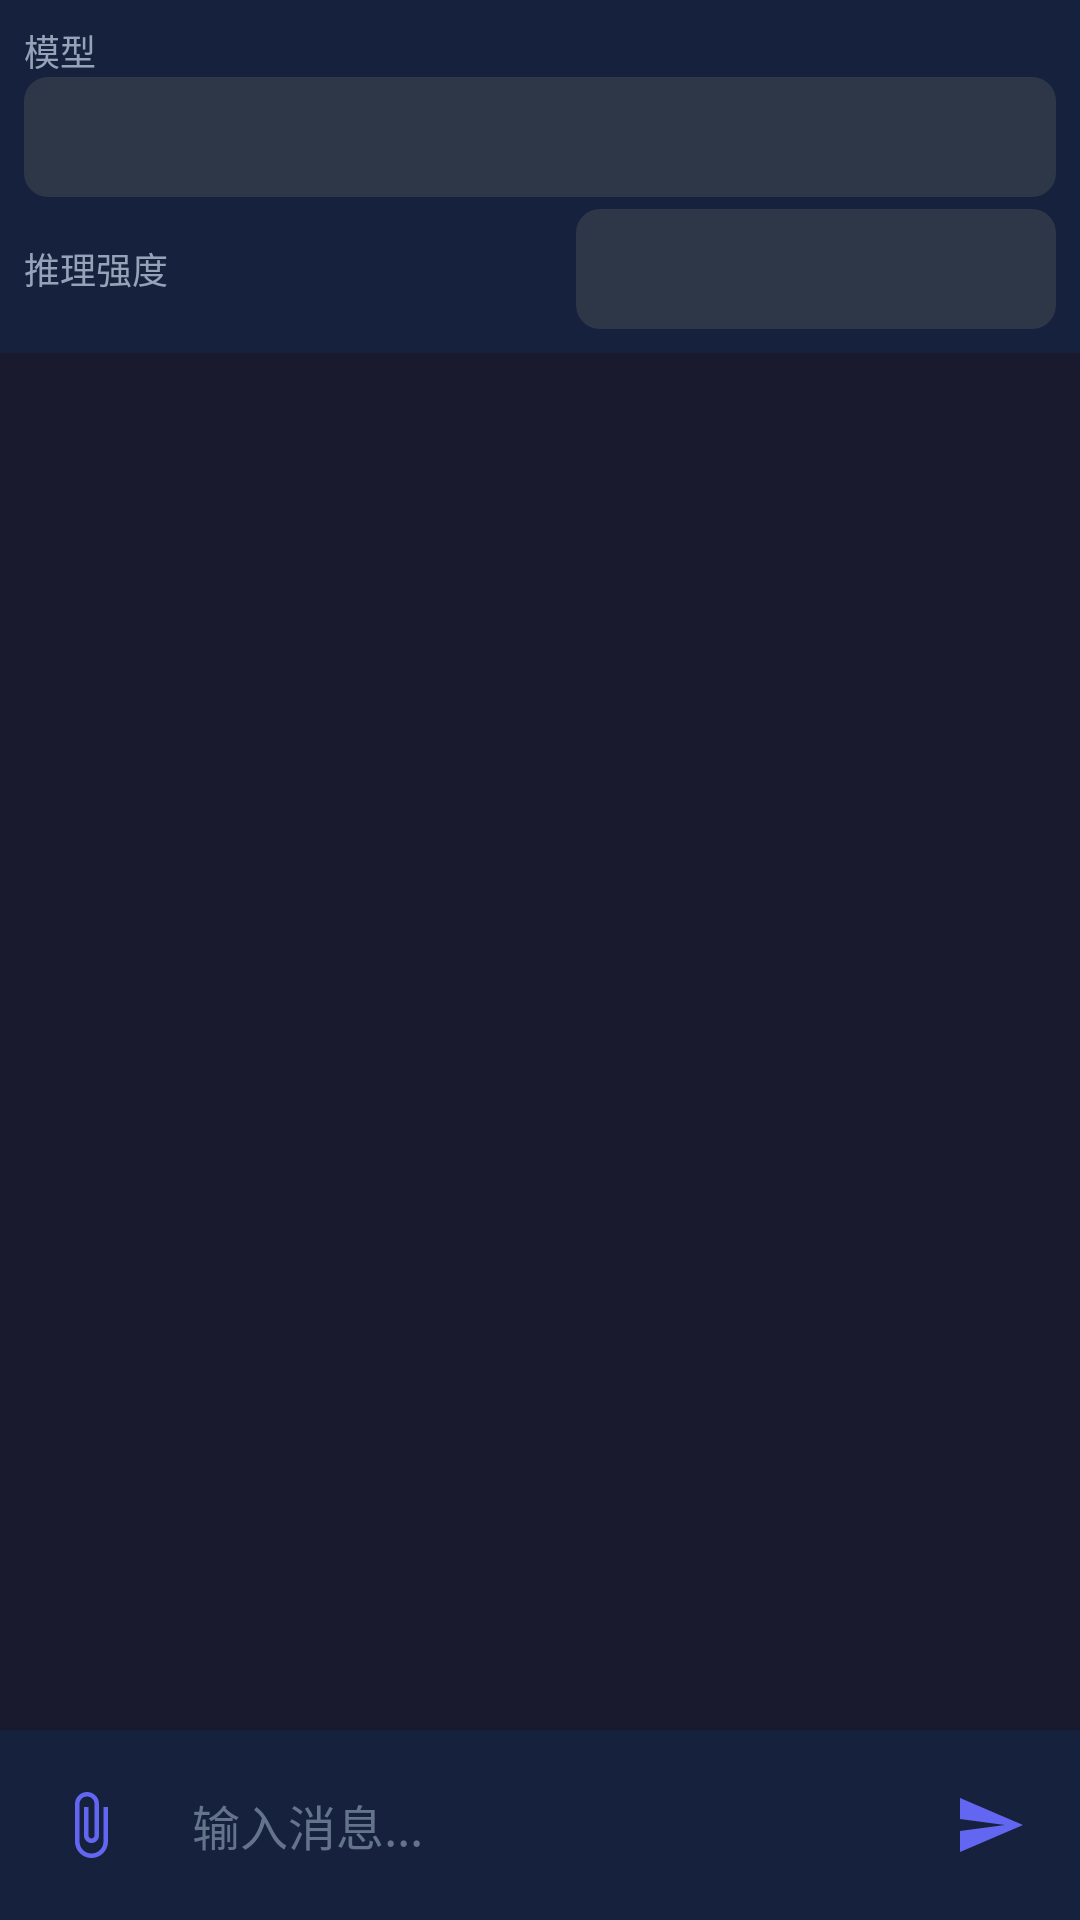

Icon bounding boxes for this 1080w x 1920h phone screenshot, format (x1, y1, x2, y2):
发送: (960, 1798, 1023, 1852)
附件: (75, 1792, 108, 1858)
